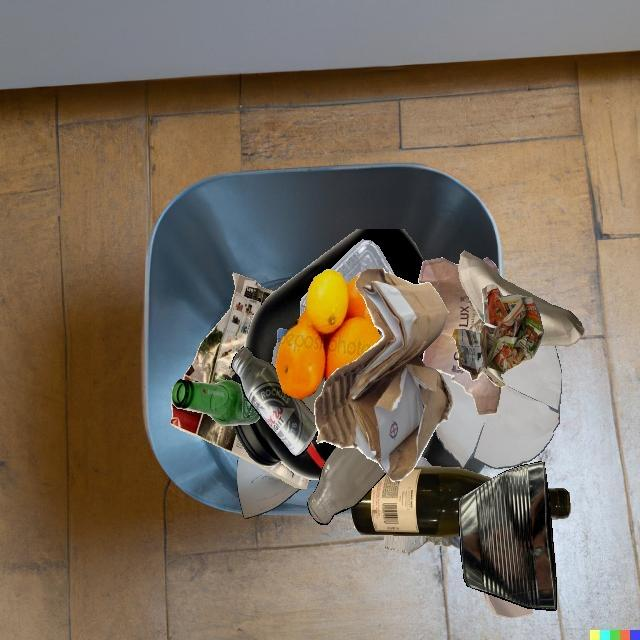biowaste: (275, 269, 381, 400)
cardboard: (314, 268, 453, 481)
glass: (351, 466, 492, 536), (308, 446, 386, 525), (171, 379, 261, 426)
metal: (458, 461, 557, 611), (231, 346, 318, 457)
paper: (435, 345, 562, 469), (170, 398, 309, 489), (458, 250, 585, 346), (183, 272, 274, 384), (452, 284, 544, 388), (418, 257, 484, 387), (237, 456, 301, 518), (468, 275, 499, 381), (384, 535, 460, 556), (483, 592, 533, 618)
plastic: (241, 283, 424, 457), (244, 229, 424, 364), (308, 268, 381, 339), (330, 240, 379, 272), (271, 329, 288, 369)
